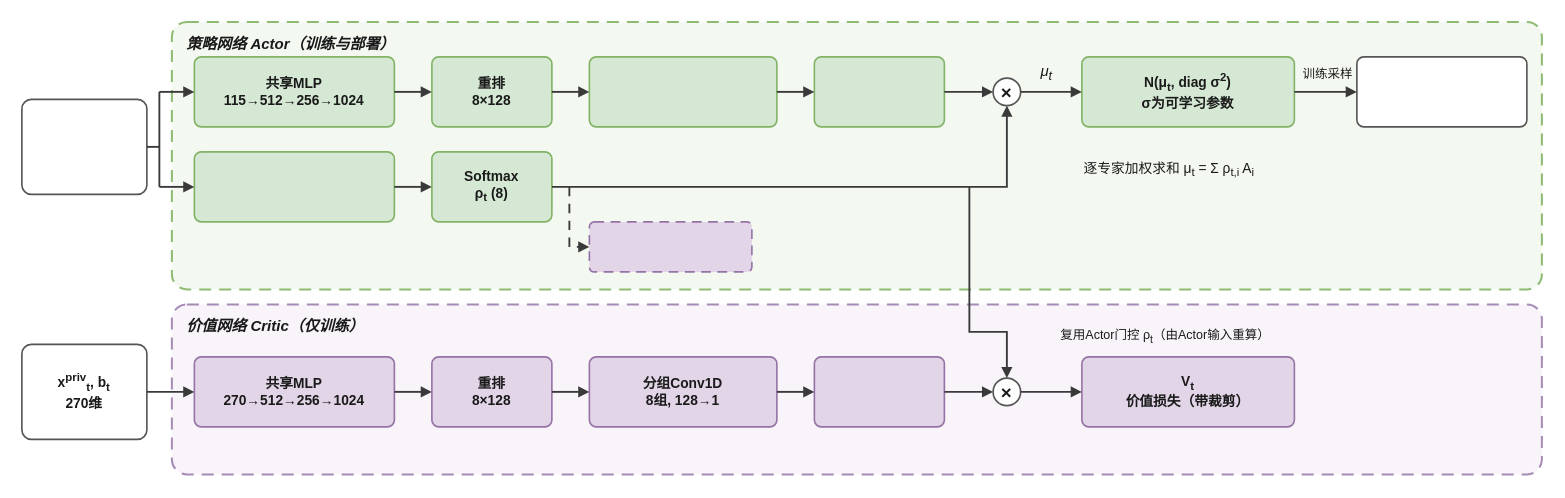
Some shapes in this 1565 by 498 pixel diagram are drawn without their labels. Here are the shapes that lost their labels. From the top down, the box of each, then its label:
(588, 56, 777, 127): 分组Conv1D 8组, 128→12
(813, 56, 945, 127): 专家动作 A i (8×12)
(1356, 56, 1527, 127): a t ∈ R 12 推理时 a t =μ t
(20, 98, 147, 195): x actor t [o t , MCP t , b t ] 115维
(193, 150, 395, 222): 门控MLP 115→512→256→8
(588, 220, 752, 272): 负载均衡 L lb
(813, 356, 945, 427): 价值专家 V i (8)
